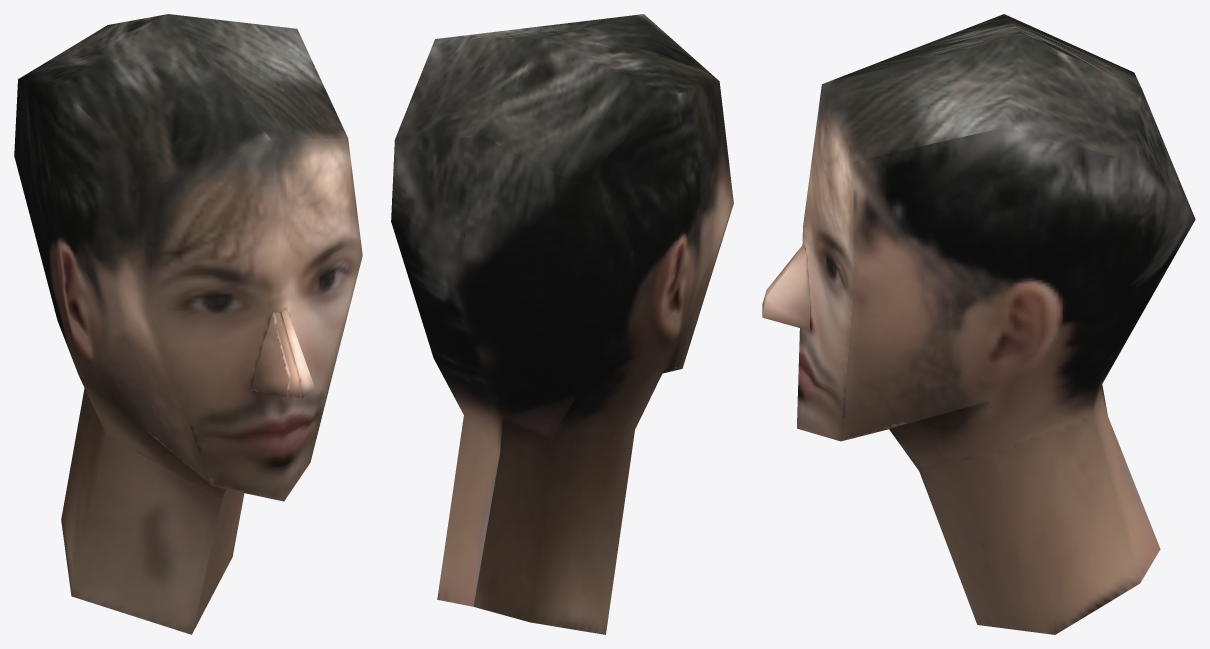
Rendered from head.glb.
The picture shows the model from 3 angles, left to right: view 1: azimuth 30°, elevation 25°; view 2: azimuth 150°, elevation 25°; view 3: azimuth 270°, elevation 25°; orthographic projection. The views are drawn at different scales.
Parts seen in each view (by area): view 1: HEAD; view 2: HEAD; view 3: HEAD.
Part boxes in pixels (box(x1,y1,x2,y2)): HEAD: box(14, 14, 362, 634); HEAD: box(391, 14, 733, 634); HEAD: box(762, 14, 1195, 634).
Bounding box in the file's own units: 0.1498 × 0.344 × 0.2289.
1 material, 1 textured.
